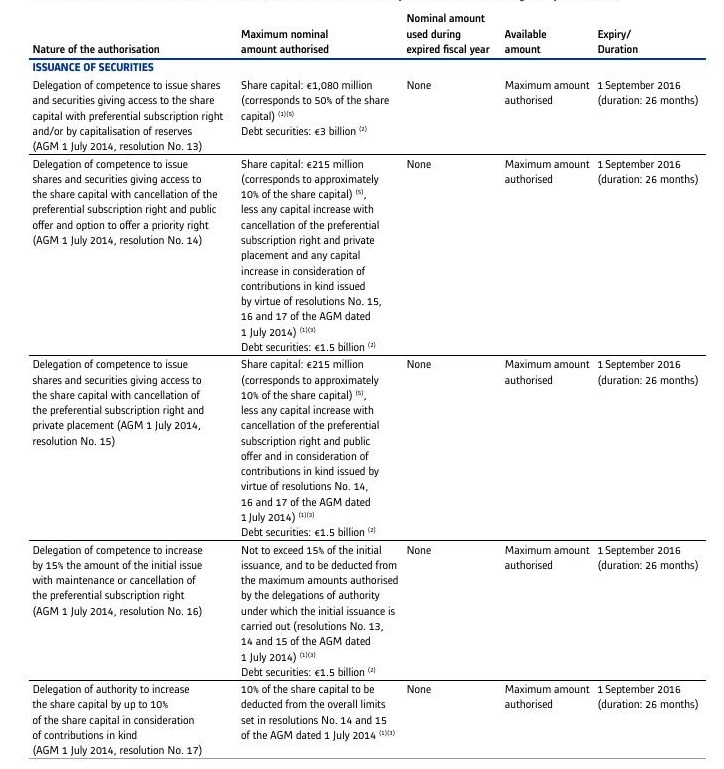table: (0, 0, 724, 769)
